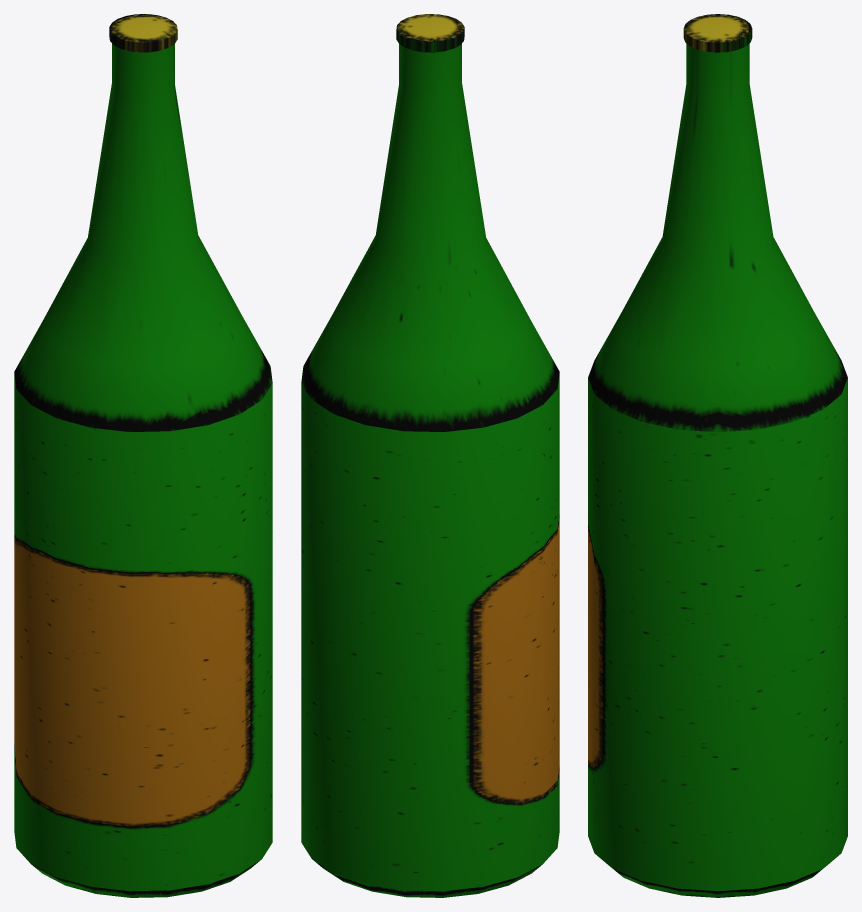
File: Bottle.obj
3 renders of one model, left to right at view 1: azimuth 30°, elevation 25°; view 2: azimuth 150°, elevation 25°; view 3: azimuth 270°, elevation 25°, orthographic.
Parts seen in each view (by area): view 1: Cylinder; view 2: Cylinder; view 3: Cylinder.
Boxes of the visible parts, x1,y1,x2,y2 form: Cylinder: (14, 14, 272, 897); Cylinder: (301, 14, 559, 897); Cylinder: (588, 14, 847, 897).
Bounding box in the file's own units: 2 × 6.98 × 2.
